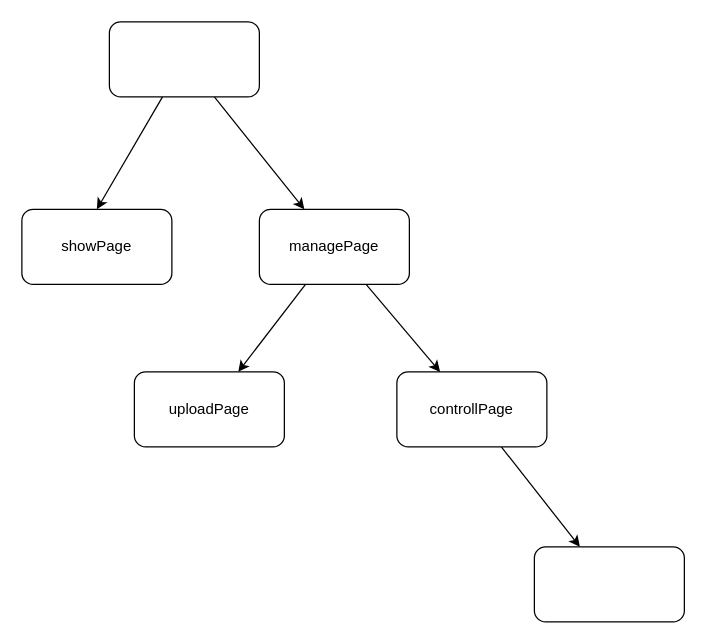
This 706x644 diagram has some shape labels left out. The shapes that lost their labels are listed below. From the top down, each one's box as (x1, y1, x2, y2) in pixels, then its label:
(108, 21, 259, 97): app
(533, 546, 684, 622): wangEdit
